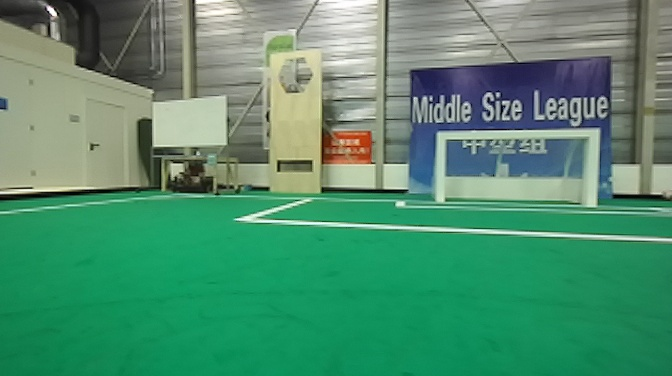ball: (656, 182, 669, 206)
goalpost: (427, 127, 453, 206), (583, 123, 602, 215)
